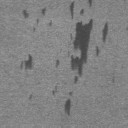red iron: (70, 0, 94, 84), (19, 54, 34, 71), (101, 21, 110, 43), (64, 98, 72, 116), (21, 10, 30, 19), (51, 85, 58, 96), (94, 46, 99, 57), (42, 7, 48, 16), (56, 60, 60, 68), (88, 0, 93, 6)
